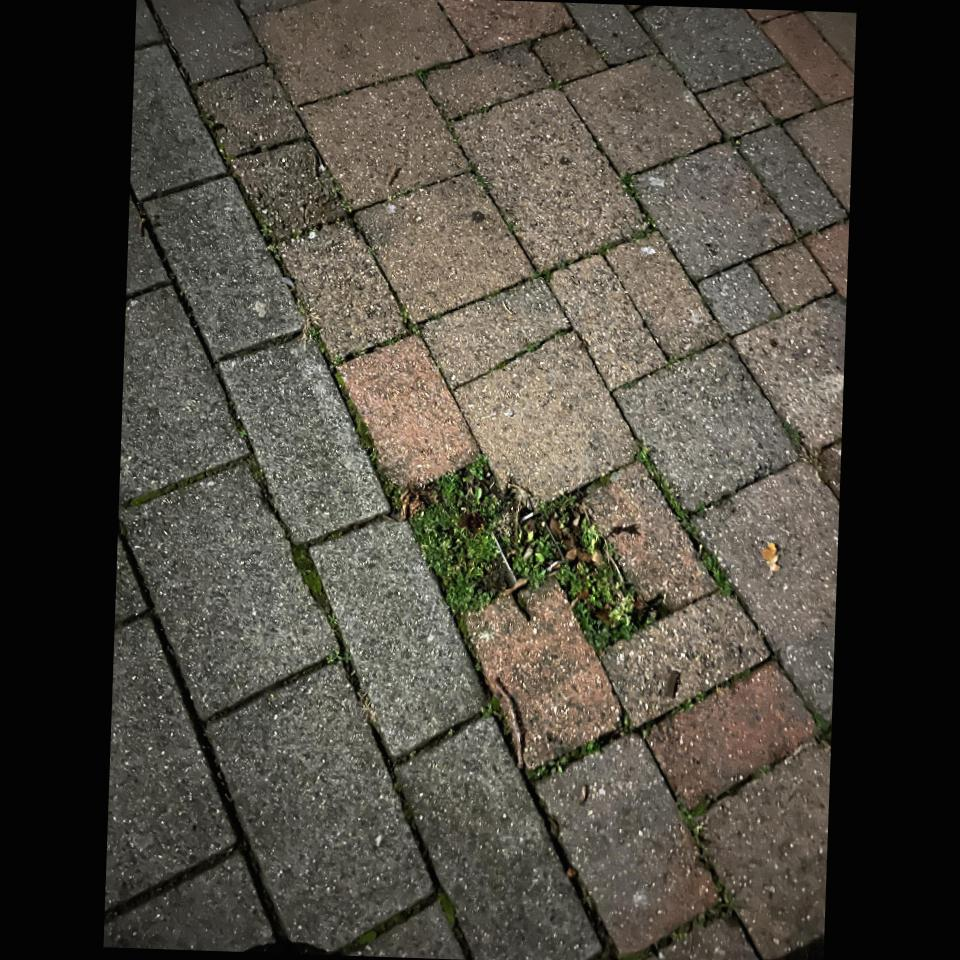weed: (402, 456, 645, 652)
